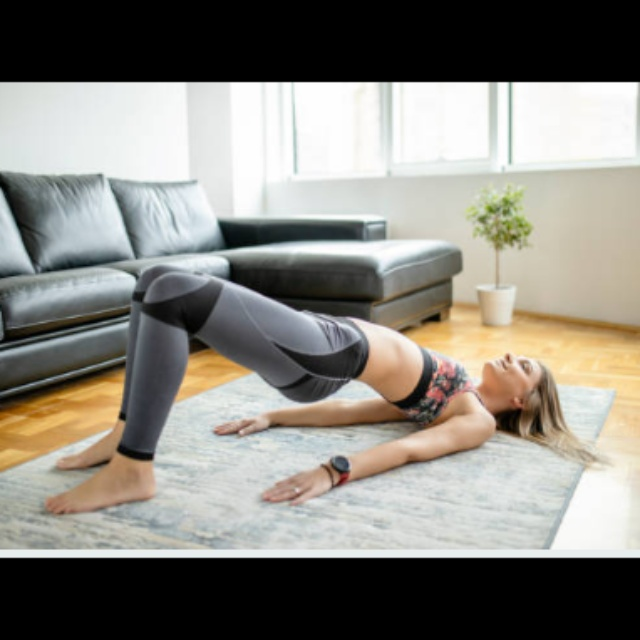Bridge_Pose: (34, 261, 611, 526)
